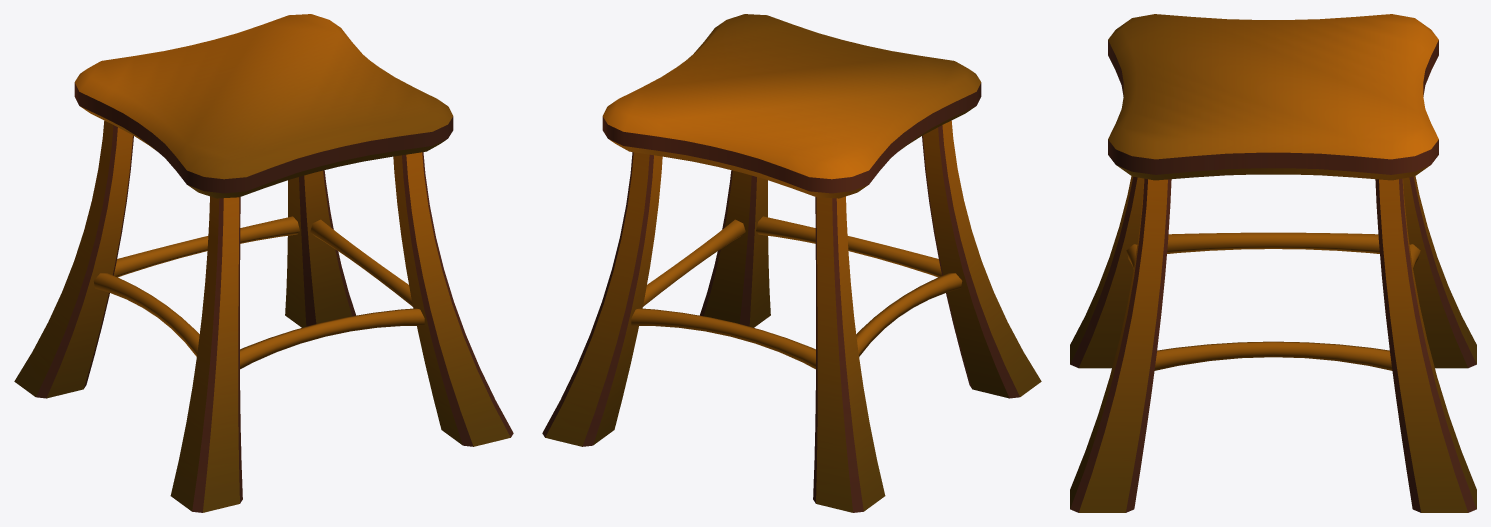
The model's file is stool.fbx.
3 renders of one model, left to right at view 1: azimuth 30°, elevation 25°; view 2: azimuth 150°, elevation 25°; view 3: azimuth 270°, elevation 25°, orthographic. The views are drawn at different scales.
Parts seen in each view (by area): view 1: stool-ayaklar; view 2: stool-ayaklar; view 3: stool-ayaklar.
Boxes of the visible parts, box(x1,y1,x2,y2) form: stool-ayaklar: box(14, 14, 513, 512); stool-ayaklar: box(542, 14, 1041, 512); stool-ayaklar: box(1070, 14, 1476, 512).
Size of the model in its own units: 47.5 by 45 by 47.5.
Materials: 1 (1 with a texture image).
